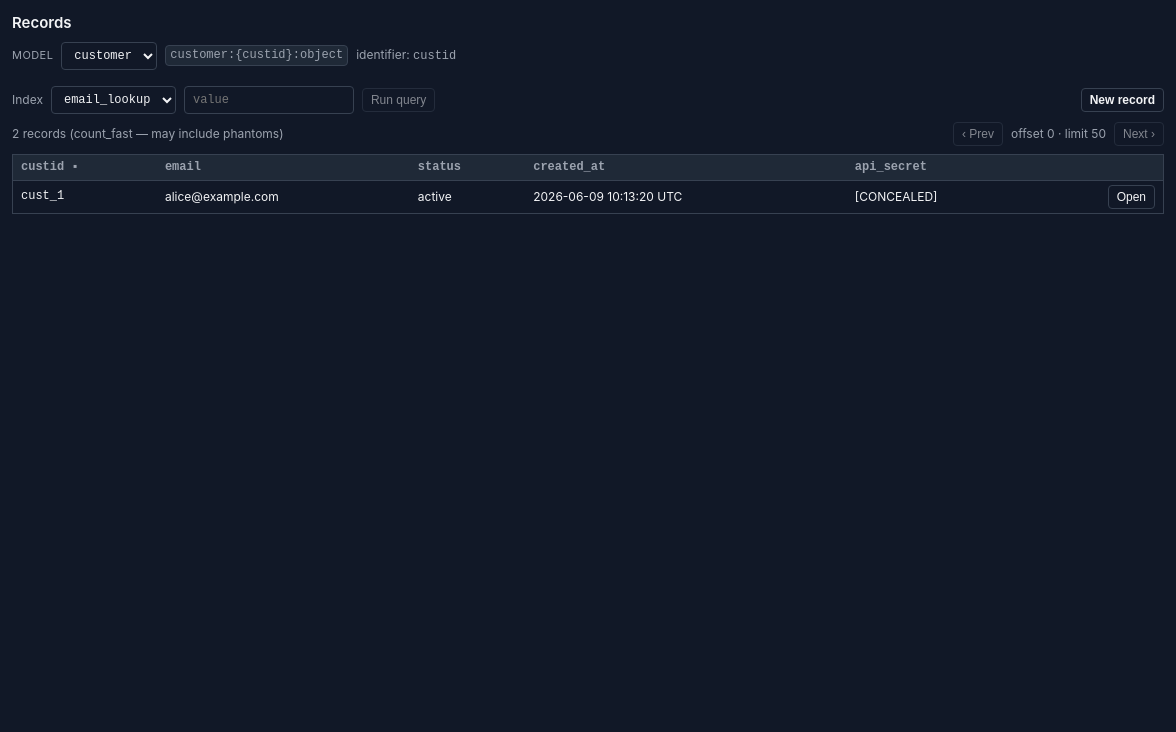
Test case: mutations surface specific refusals › create against read-only mode renders the read_only ErrorState
Expected: the table with test id "records-table" is shown, [12, 154, 1164, 214]
Step 1. Click the button with test id "records-new" → [1122, 100], box [1081, 88, 1164, 112]
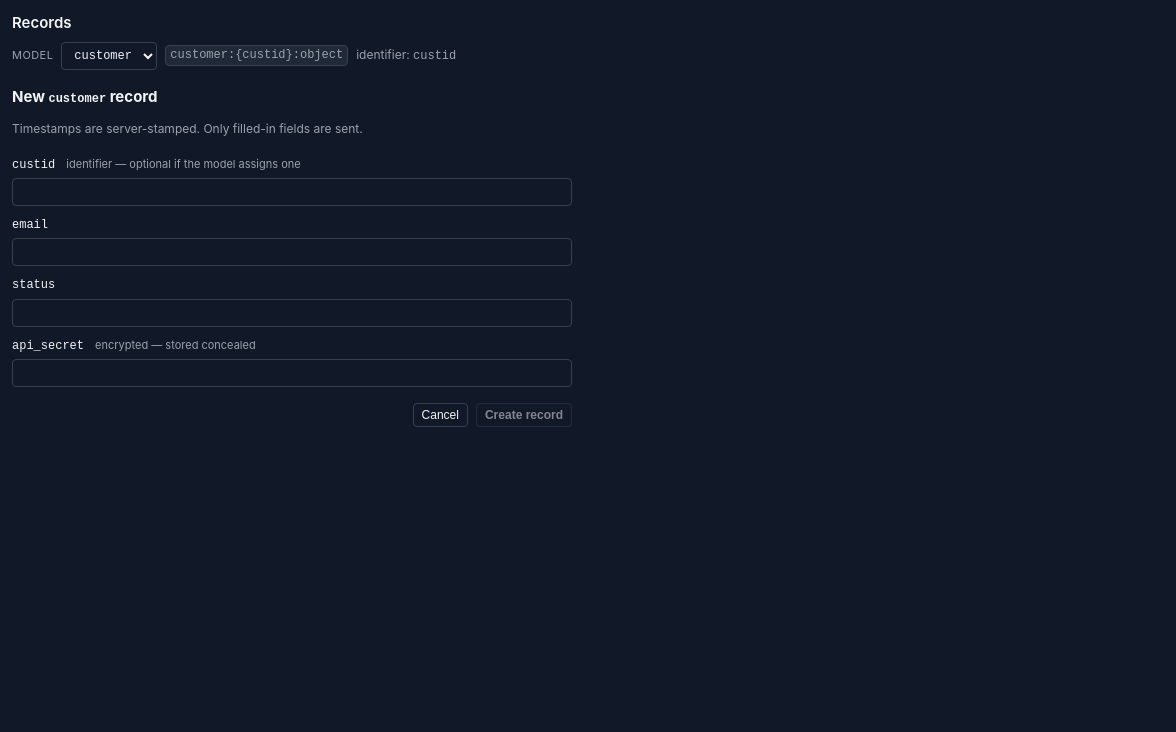
Step 2. Type "new@example.com" into the field with test id "create-input-email" → [292, 252], box [12, 238, 572, 266]
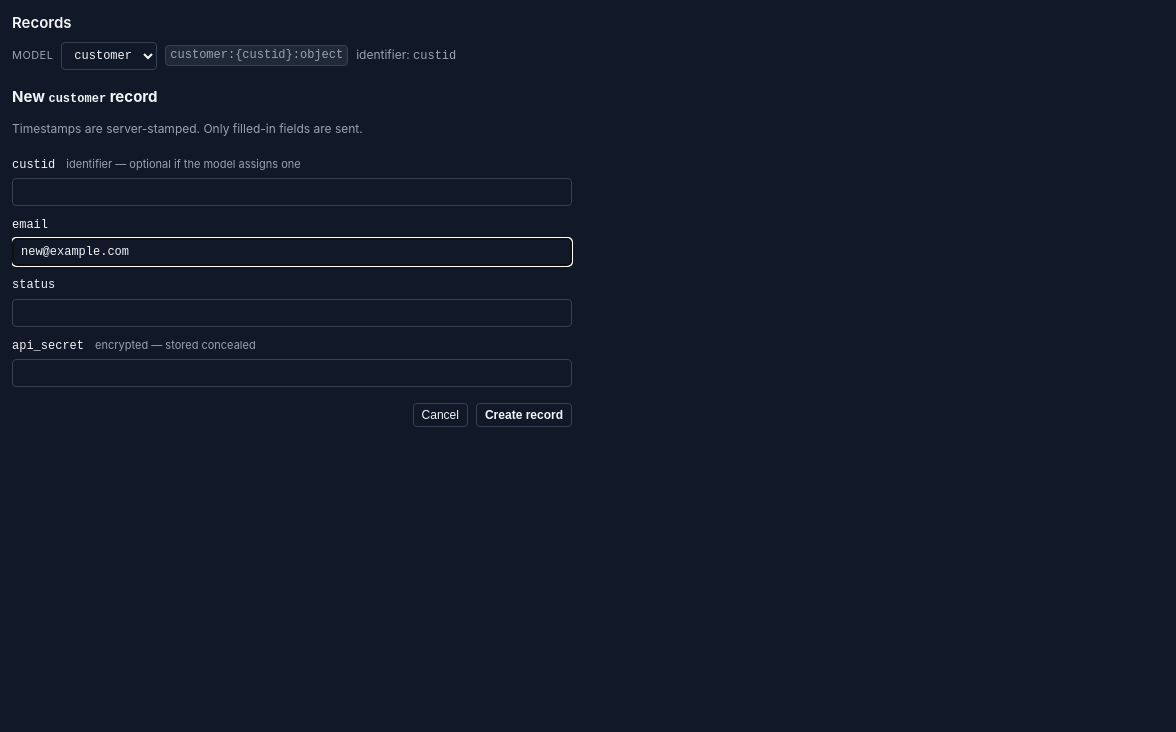
Step 3. Click the button with test id "create-submit" → [524, 415], box [476, 403, 572, 427]
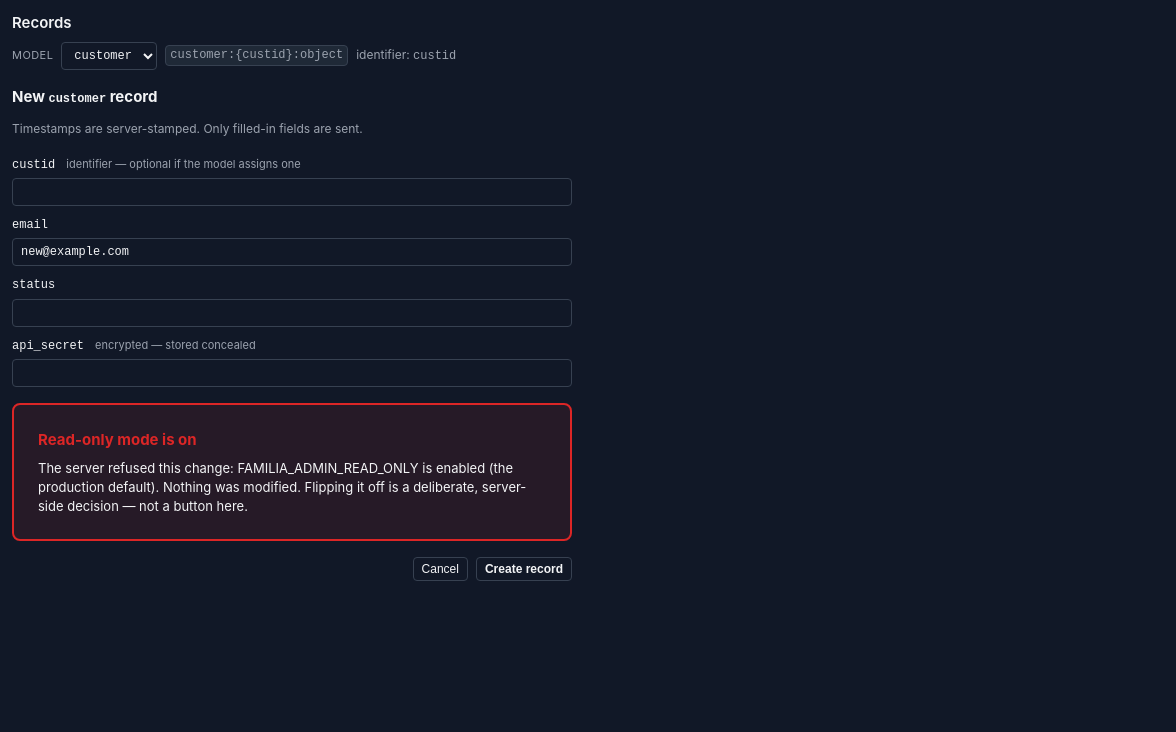
Now the element with test id "records-create" is shown, box [12, 86, 572, 581]
Now the message with test id "error-state" shows "FAMILIA_ADMIN_READ_ONLY", box [38, 460, 526, 514]
